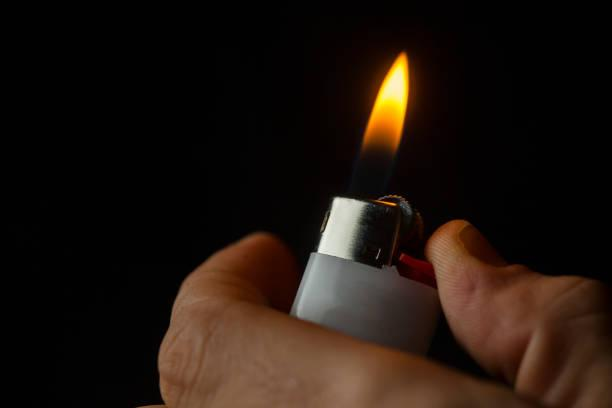Fire: (358, 48, 411, 165)
